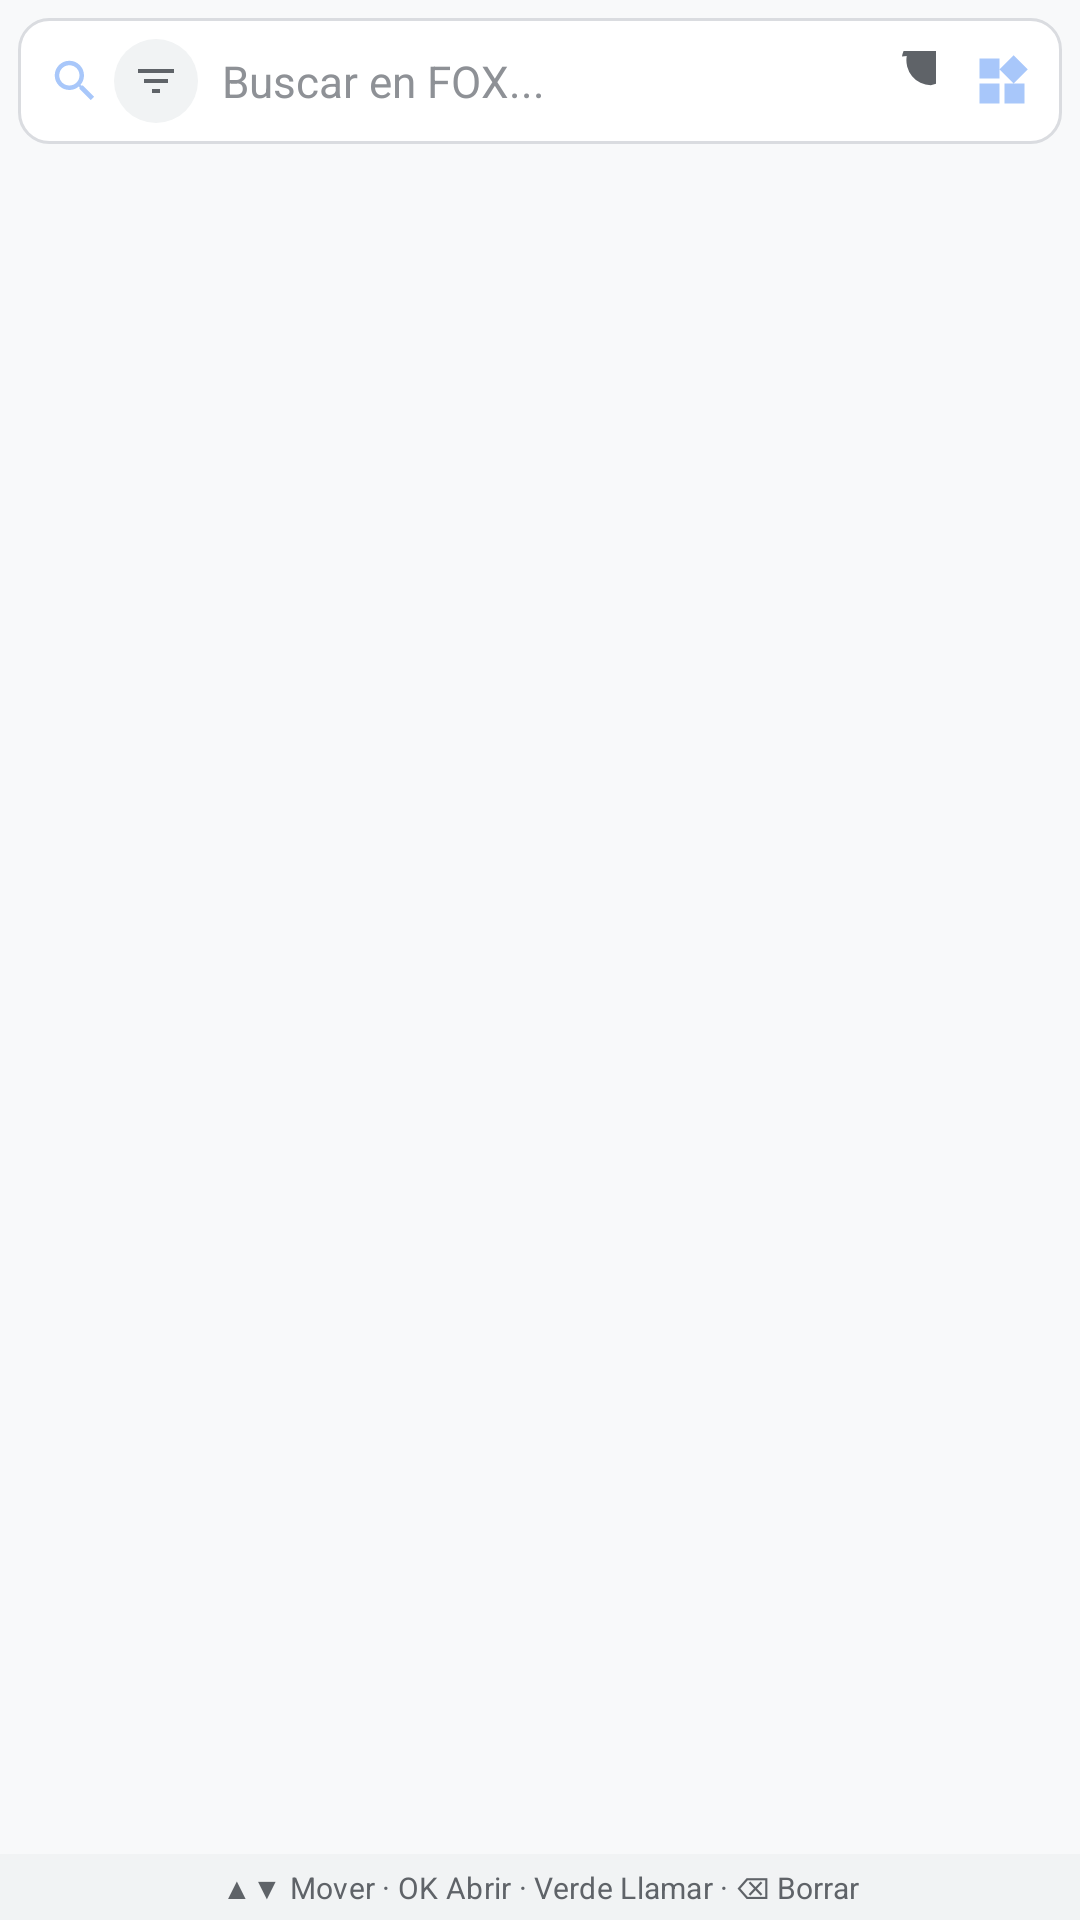

Where icons sit on this 1080w x 1920h app screen, as (x1, y1, x2, y2):
Fijar barra en inicio: (979, 55, 1028, 104)
filter: (138, 69, 174, 93)
search: (55, 61, 94, 100)
